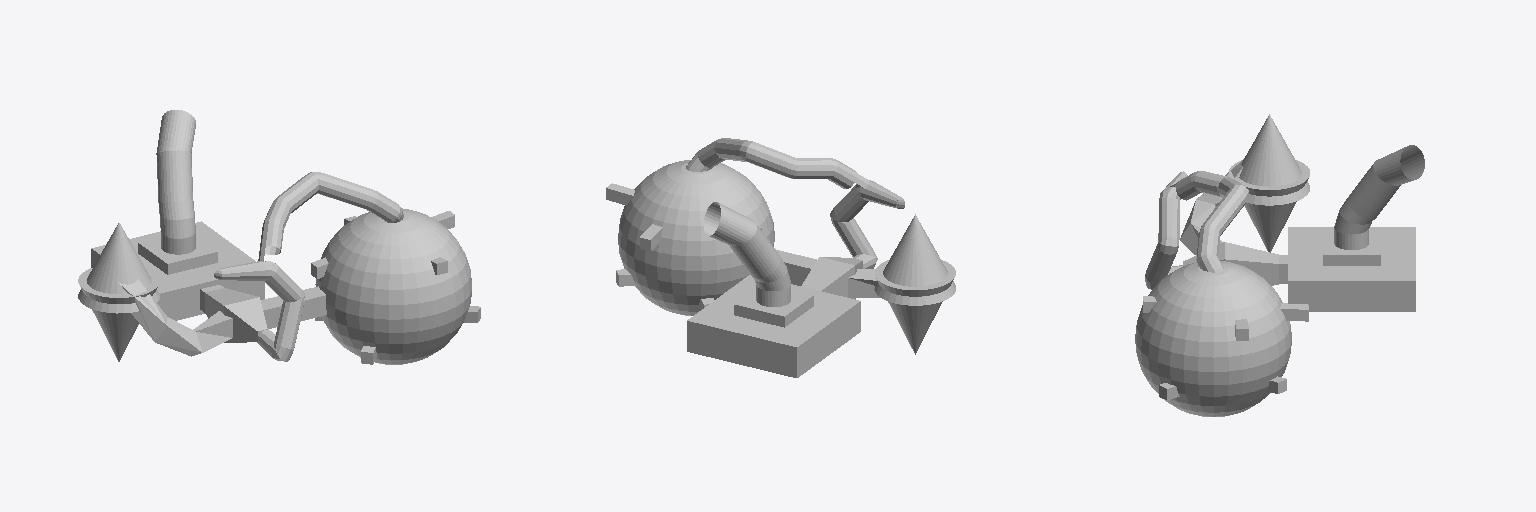
The model's file is lvl_station.obj.
3 renders of one model, left to right at view 1: azimuth 30°, elevation 25°; view 2: azimuth 150°, elevation 25°; view 3: azimuth 270°, elevation 25°, orthographic.
Parts seen in each view (by area): view 1: Cube.001, Cube.002; view 2: Cube.001, Cube.002; view 3: Cube.001, Cube.002, Cube.003.
Boxes of the visible parts, x1,y1,x2,y2 form: Cube.001: [78, 110, 471, 364]; Cube.002: [311, 211, 454, 278]; Cube.001: [618, 138, 955, 377]; Cube.002: [606, 163, 761, 251]; Cube.001: [1135, 114, 1424, 416]; Cube.002: [1143, 296, 1308, 340]; Cube.003: [1159, 376, 1286, 400].
Bounding box in the file's own units: 63.64 × 35.28 × 45.01.